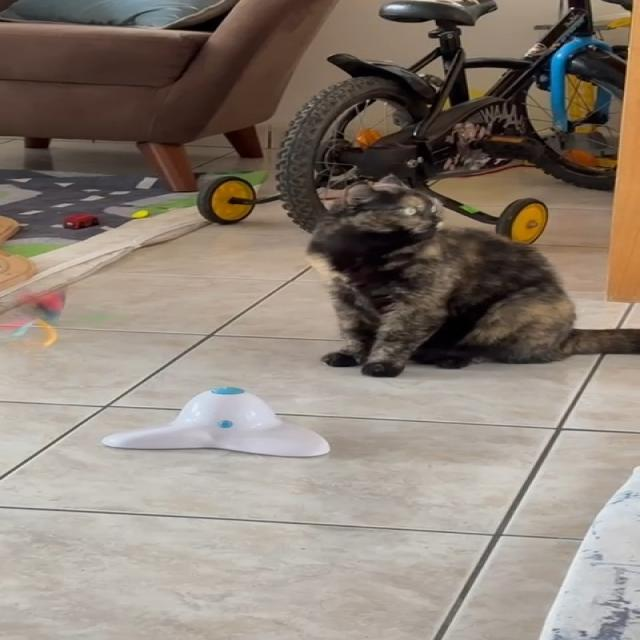authorized: (304, 173, 639, 377)
